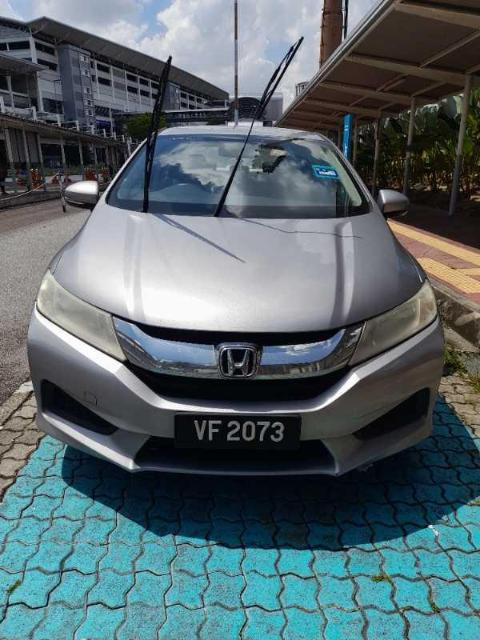License_Plate: (174, 414, 302, 453)
car: (24, 117, 454, 487)
